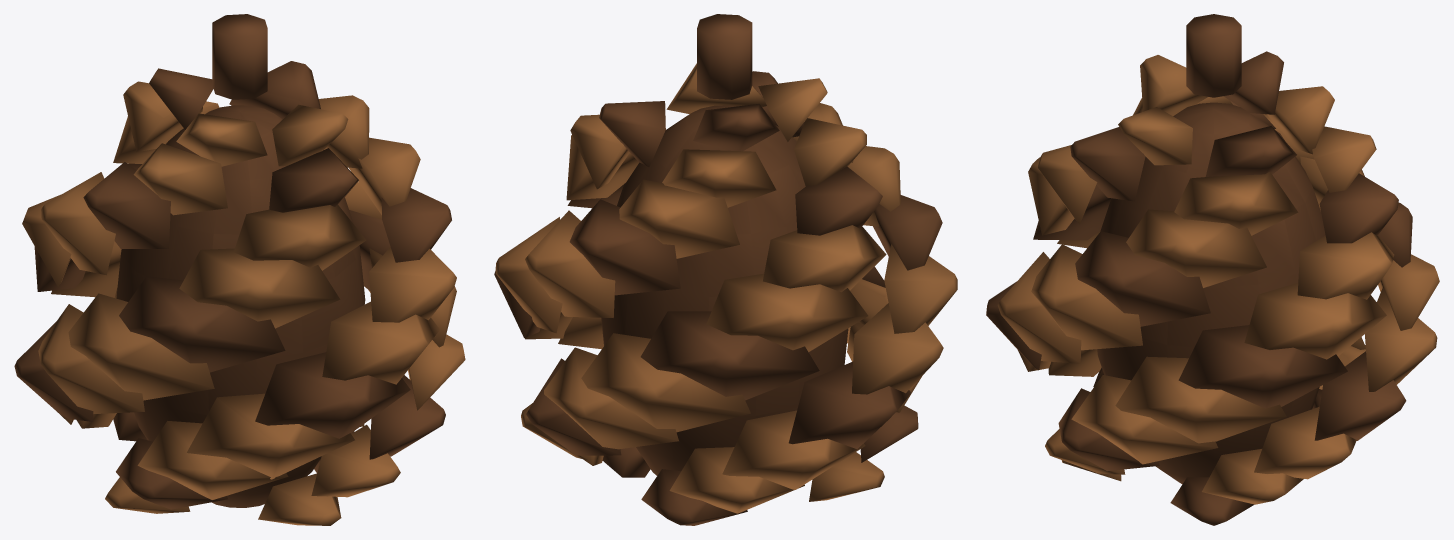
Rendered from col_pinecone.glb.
The picture shows the model from 3 angles, left to right: view 1: azimuth 30°, elevation 25°; view 2: azimuth 150°, elevation 25°; view 3: azimuth 270°, elevation 25°; orthographic projection. The views are drawn at different scales.
Parts seen in each view (by area): view 1: col_pinecone; view 2: col_pinecone; view 3: col_pinecone.
Boxes of the visible parts, bbox=[...] form: col_pinecone: bbox=[14, 14, 465, 525]; col_pinecone: bbox=[494, 14, 957, 525]; col_pinecone: bbox=[986, 14, 1439, 525].
Size of the model in its own units: 0.3756 by 0.42 by 0.3757.
